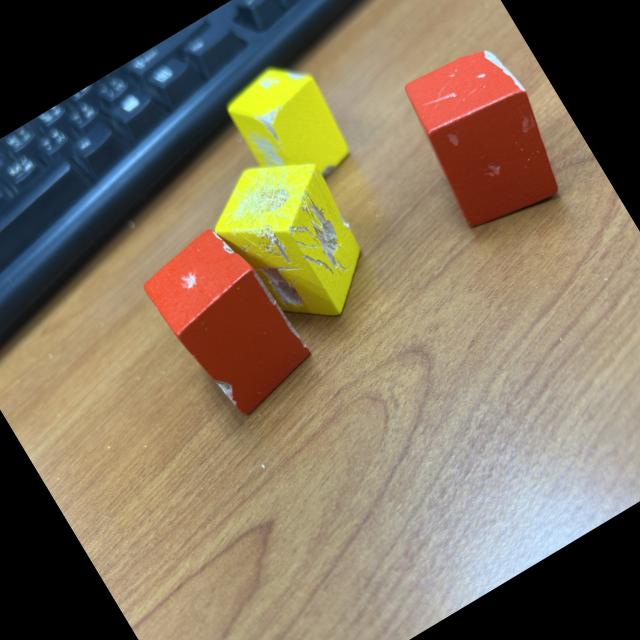broken: (195, 136, 391, 351), (134, 214, 323, 427), (389, 32, 581, 241), (218, 50, 362, 206)
